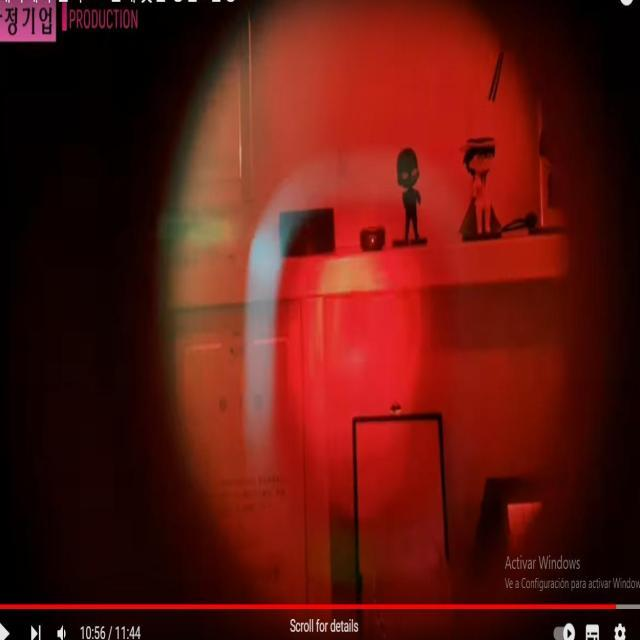hidden camera: (363, 229, 383, 258)
